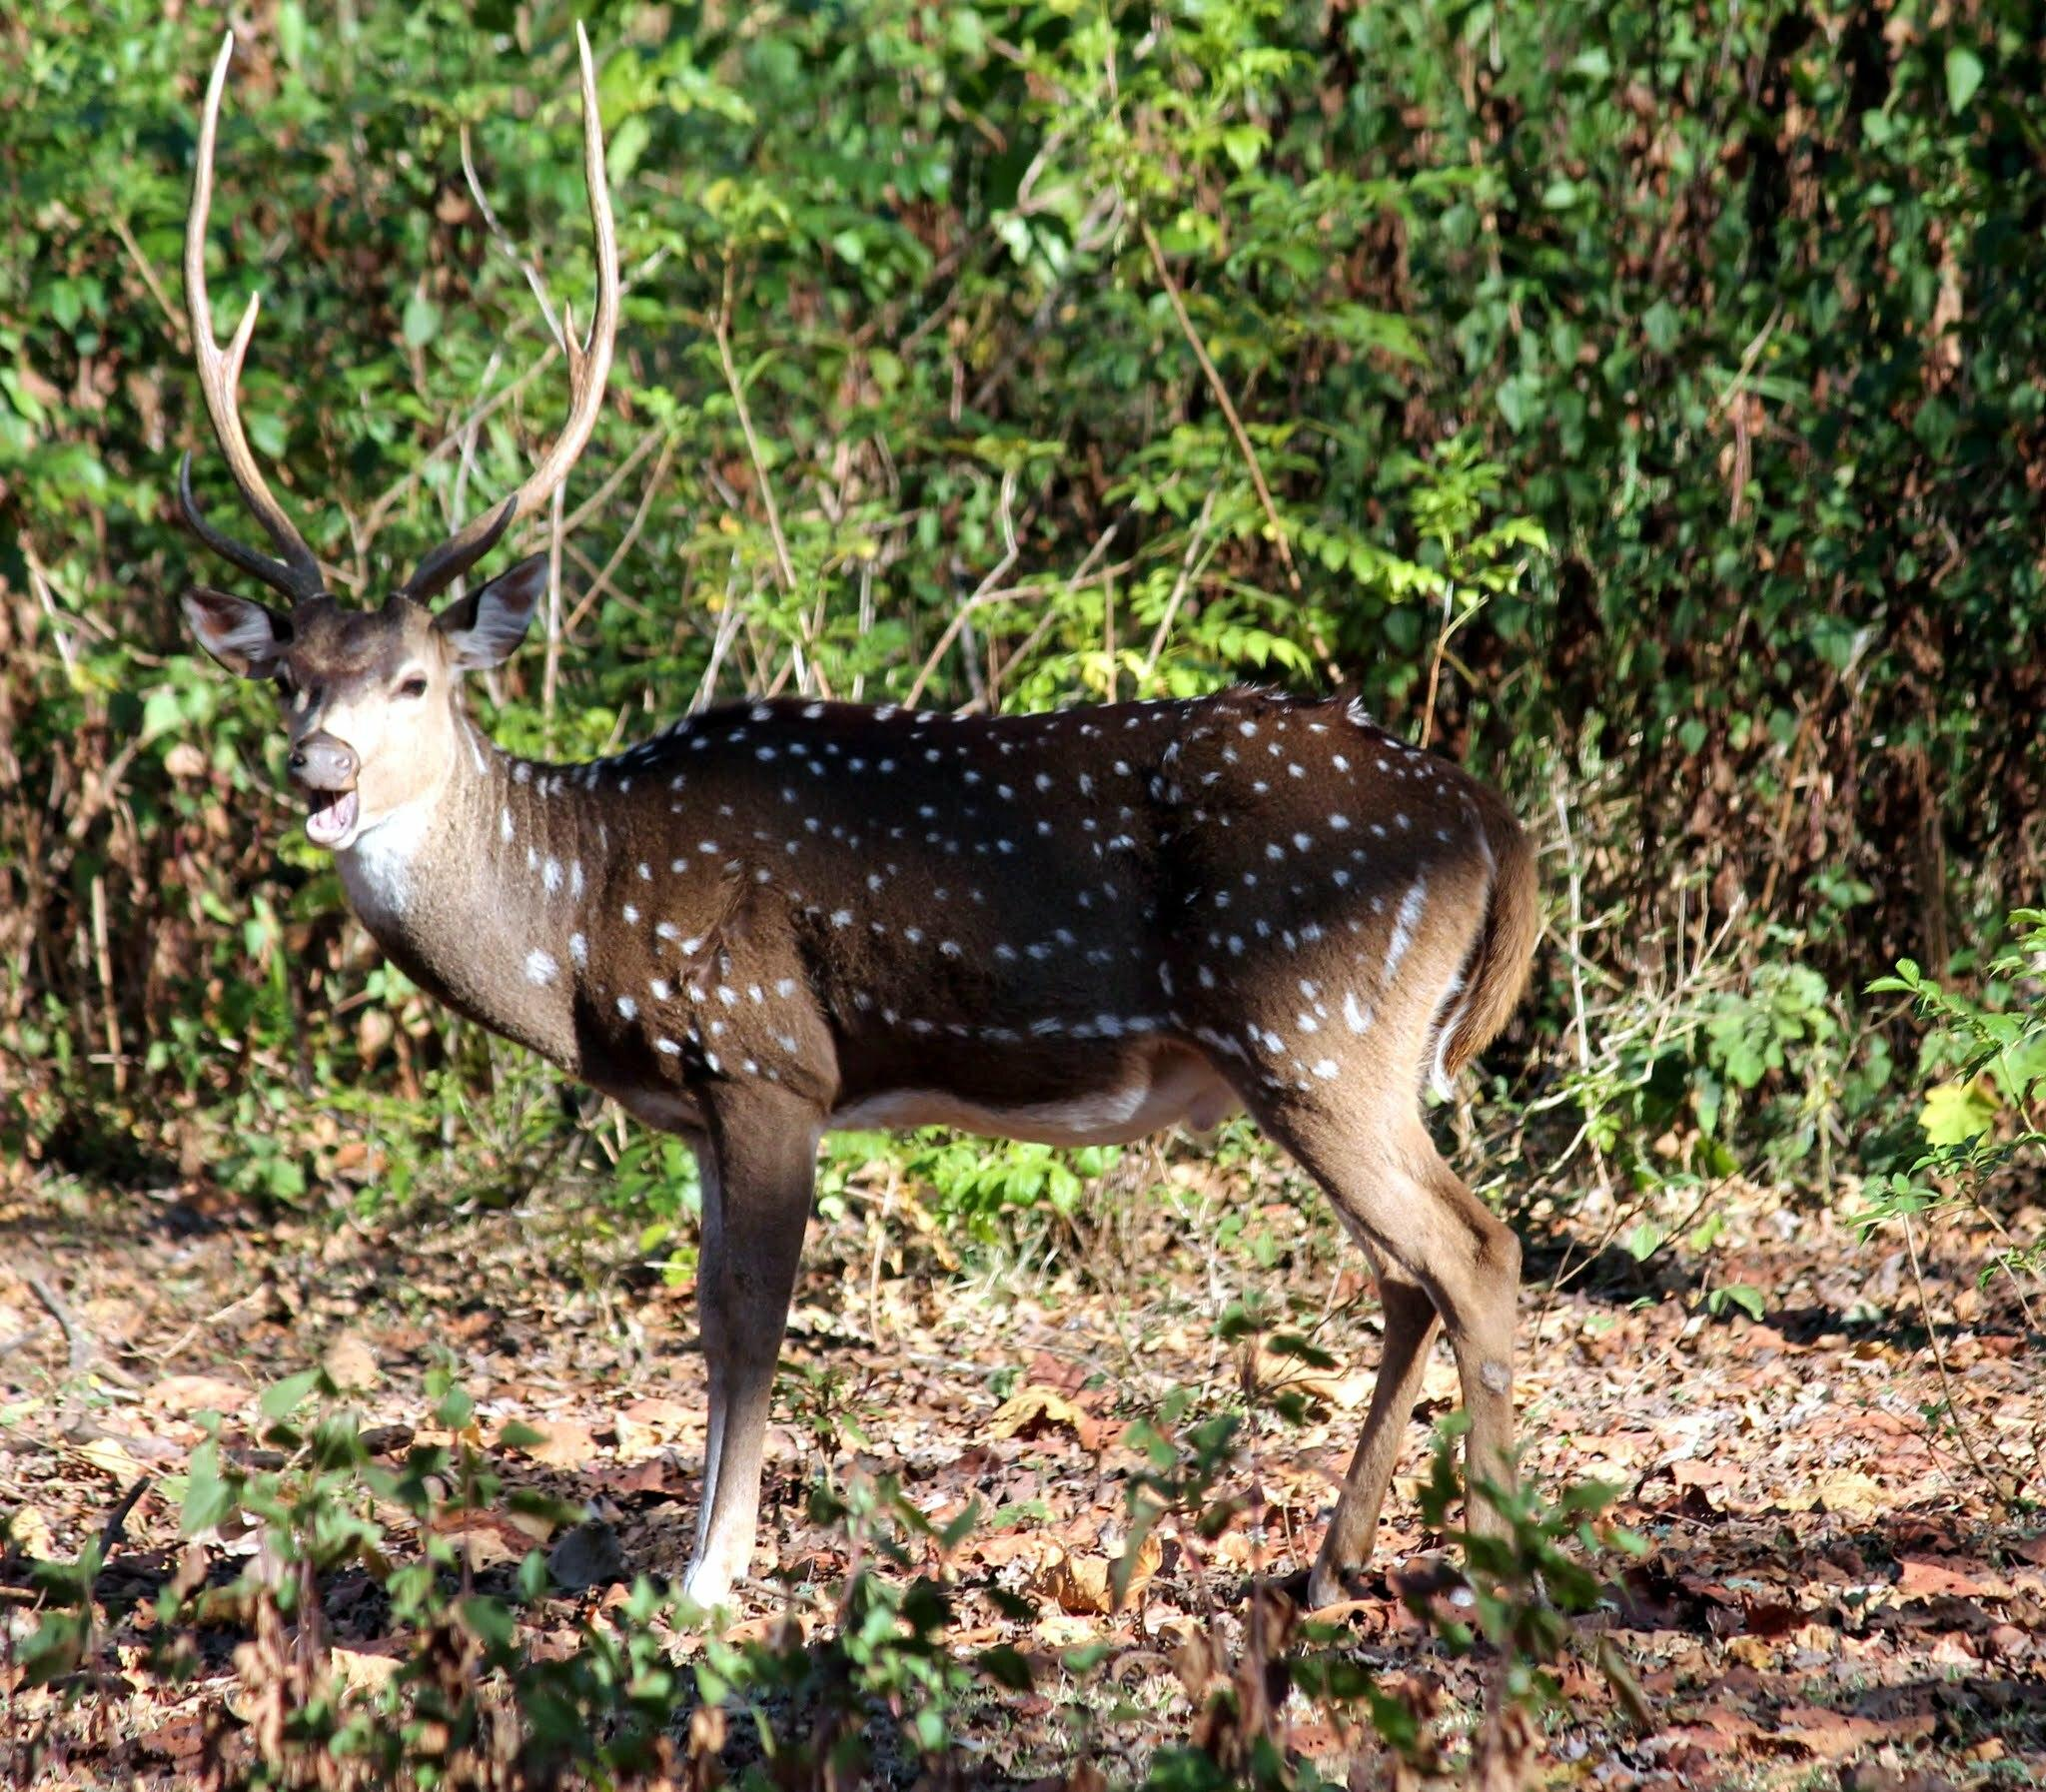Deer: (179, 31, 1538, 1608)
